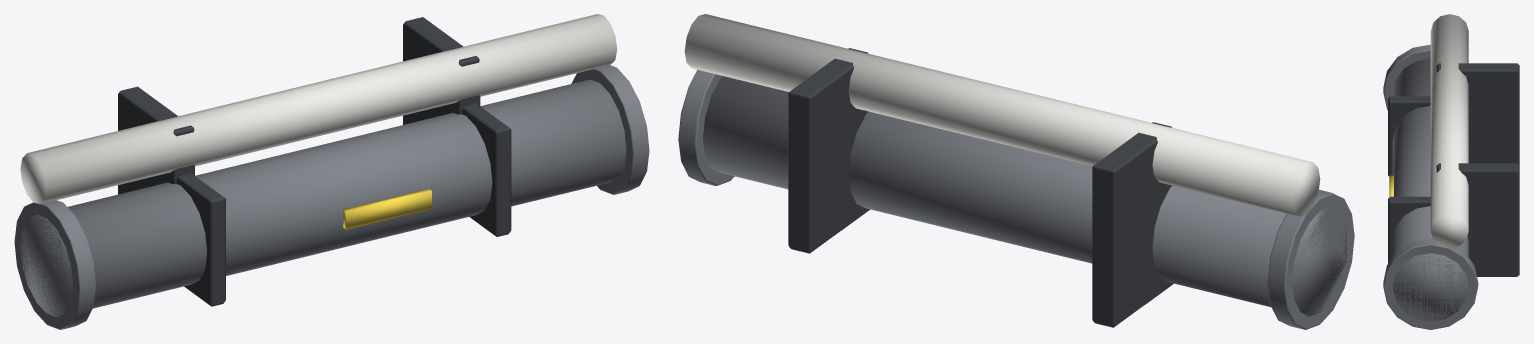
File: kit_pipe_run.glb
3 views of the same model, side by side, from view 1: azimuth 30°, elevation 25°; view 2: azimuth 150°, elevation 25°; view 3: azimuth 270°, elevation 25° (orthographic). The views are drawn at different scales.
Parts seen in each view (by area): view 1: pipe_run; view 2: pipe_run; view 3: pipe_run.
Part boxes in pixels (x1=…): pipe_run: x1=14, y1=14, x2=649, y2=329; pipe_run: x1=678, y1=14, x2=1354, y2=329; pipe_run: x1=1383, y1=14, x2=1519, y2=329.
Size of the model in its own units: 2 by 0.54 by 0.575.
